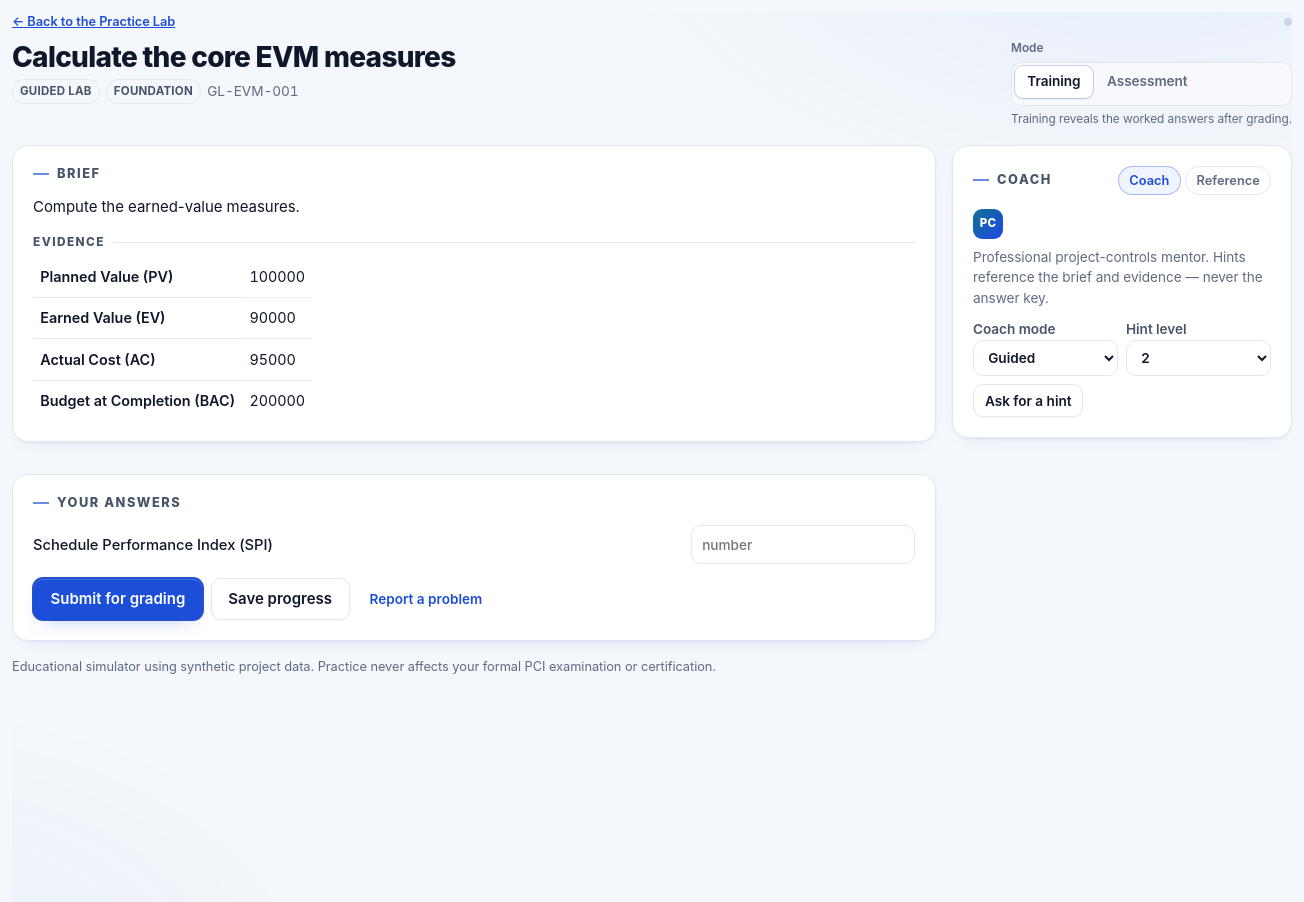
LabRunner (Simulation Lab workspace) › fetches and shows a coaching message on request (Training Mode)
Expected: the text "Compute the earned-value measures." is shown, [33, 197, 300, 216]
Step 1. Type "1.2" into the field with placeholder "number" → x=803, y=545, box [691, 525, 915, 564]
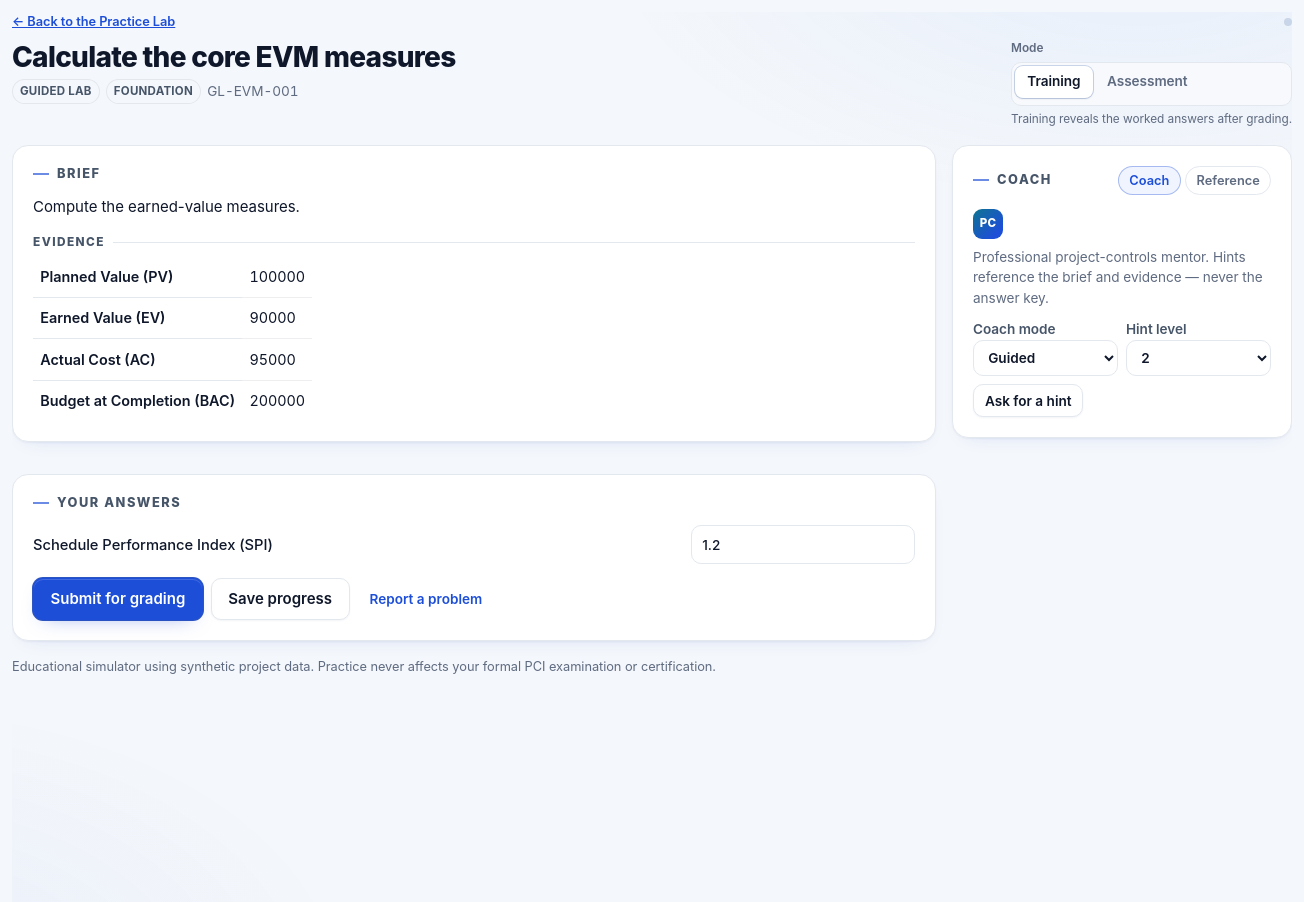
Step 2. Click the button "Submit for grading" → x=118, y=599, box [33, 578, 203, 620]
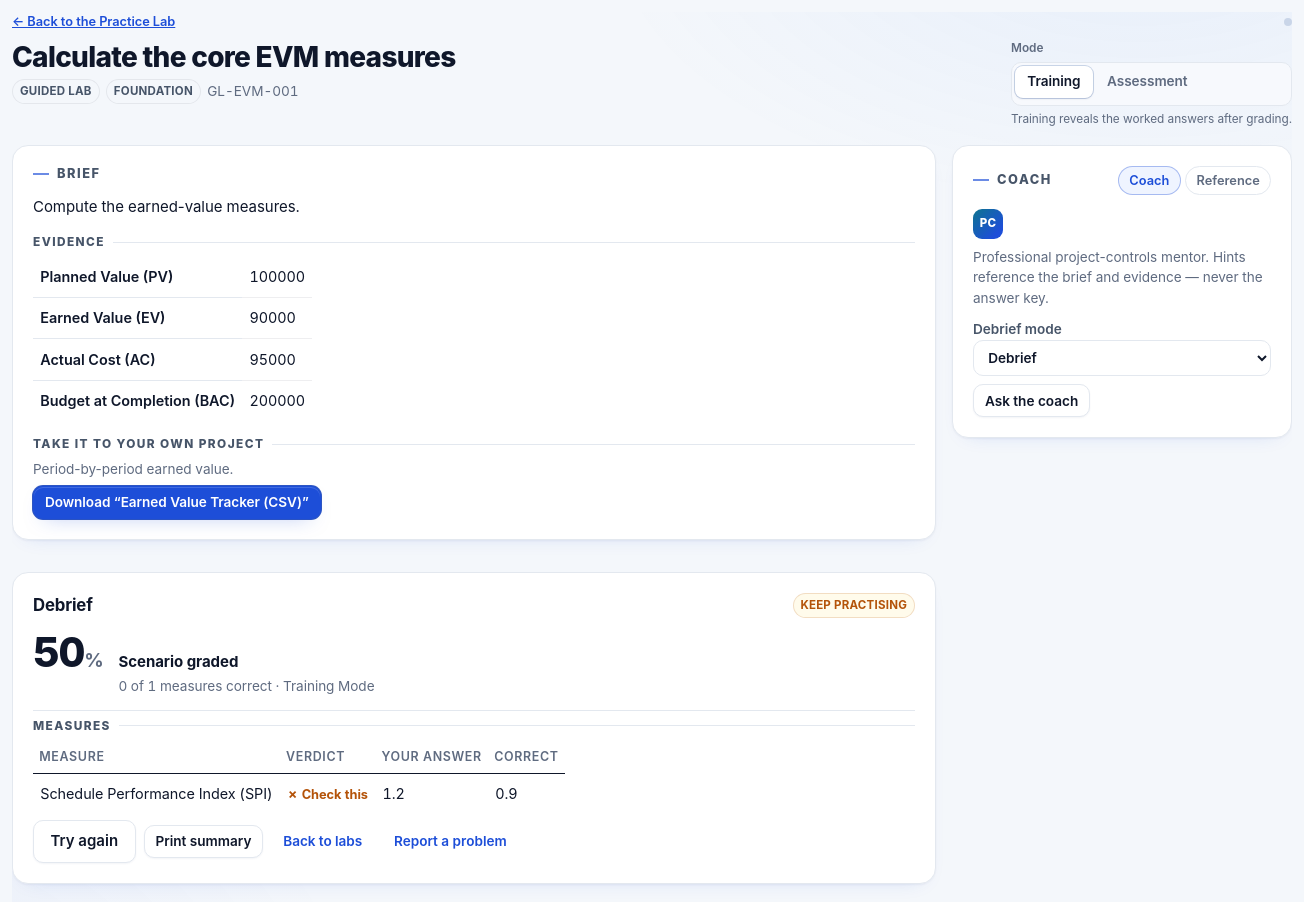
Step 3. Click the button "Ask the coach" → x=1032, y=401, box [973, 384, 1090, 418]
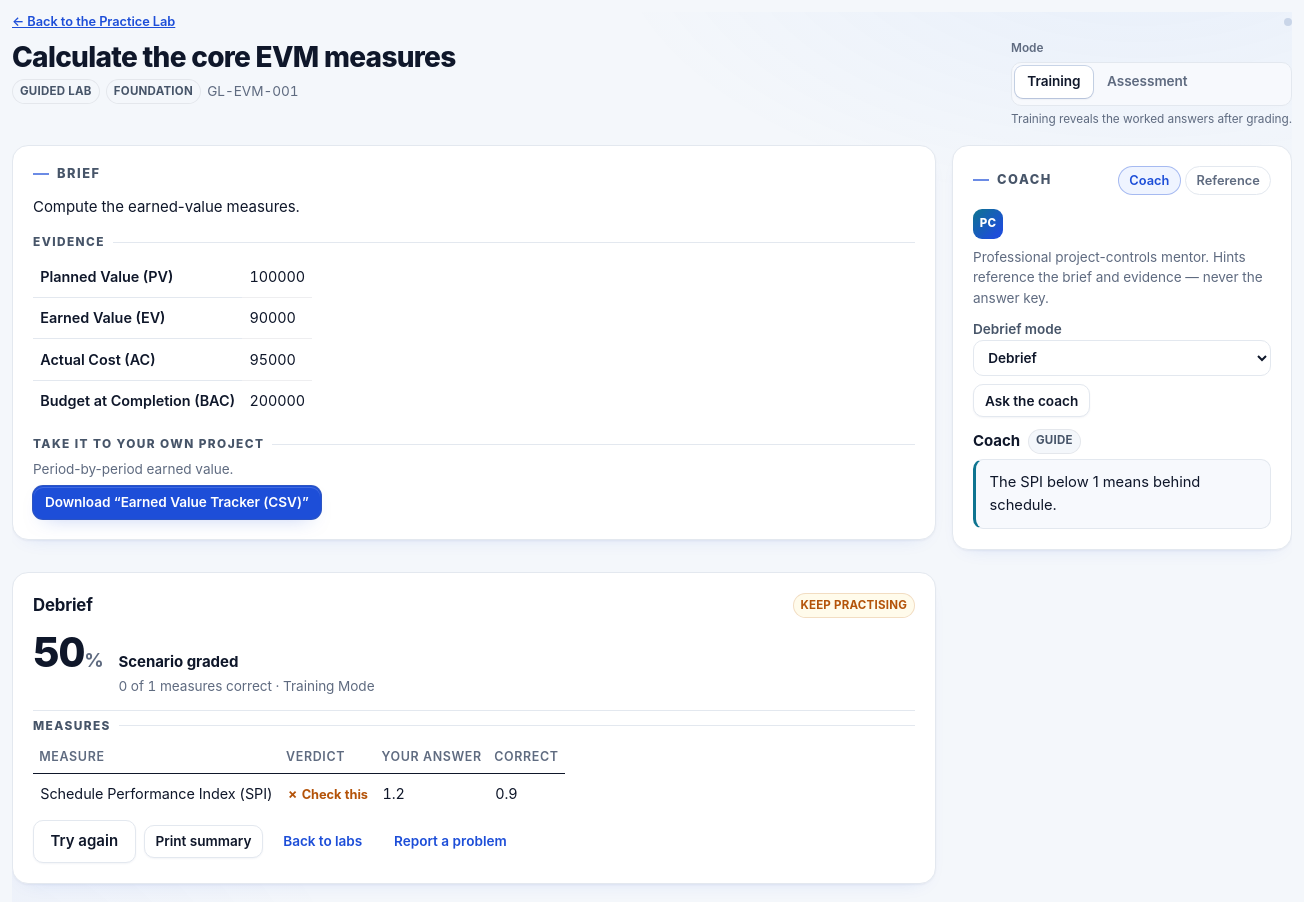
Result: the text "The SPI below 1 means behind schedule." is shown at [973, 459, 1271, 529]
Result: the text "Guide" is shown at [1028, 429, 1081, 454]
